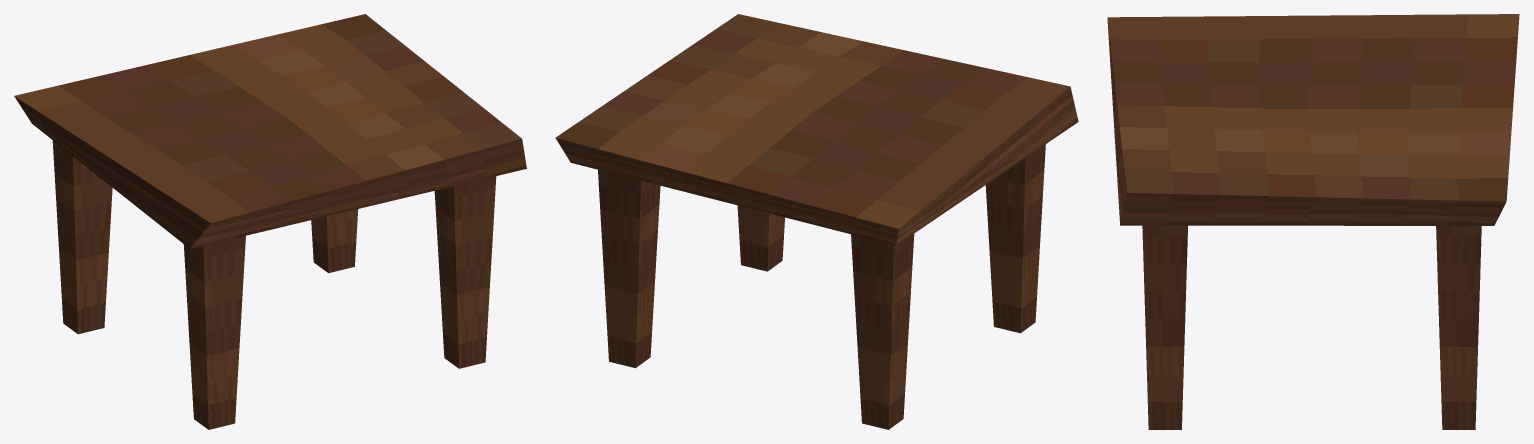
Rendered from tabletv_psx.glb.
3 renders of one model, left to right at view 1: azimuth 30°, elevation 25°; view 2: azimuth 150°, elevation 25°; view 3: azimuth 270°, elevation 25°, orthographic. The views are drawn at different scales.
Visible parts, largest first — view 1: Cube, Cube.005, Cube.001, Cube.004, Cube.003; view 2: Cube, Cube.003, Cube.004, Cube.005, Cube.001; view 3: Cube, Cube.001, Cube.003.
Part boxes in pixels (left/top/right/bottom): Cube: left=14, top=14, right=526, bottom=248; Cube.005: left=183, top=235, right=245, bottom=429; Cube.001: left=434, top=176, right=496, bottom=368; Cube.004: left=52, top=140, right=112, bottom=334; Cube.003: left=311, top=209, right=358, bottom=273; Cube: left=555, top=14, right=1078, bottom=245; Cube.003: left=598, top=170, right=660, bottom=368; Cube.004: left=851, top=234, right=914, bottom=429; Cube.005: left=985, top=144, right=1045, bottom=333; Cube.001: left=737, top=205, right=784, bottom=271; Cube: left=1107, top=14, right=1519, bottom=225; Cube.001: left=1142, top=225, right=1187, bottom=429; Cube.003: left=1436, top=226, right=1481, bottom=429.
Size of the model in its own units: 1.34 by 0.8249 by 1.22.
1 material, 1 textured.
